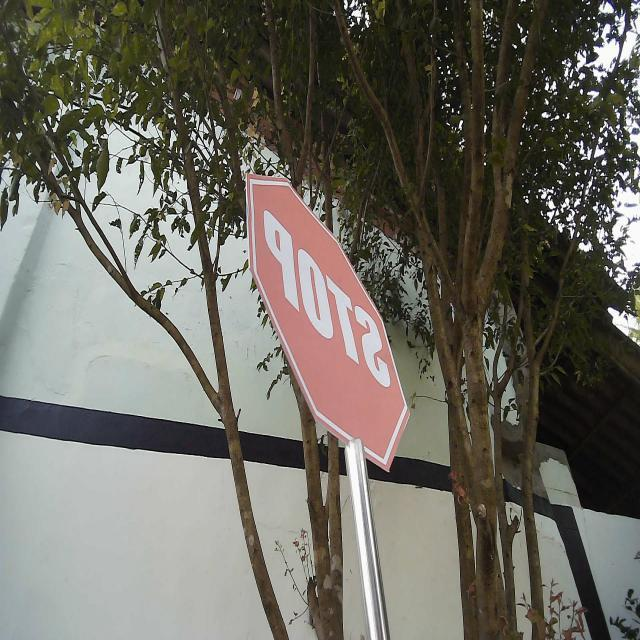stop: (243, 167, 412, 477)
